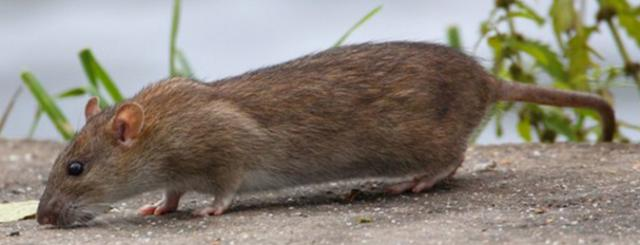rat: (26, 31, 568, 233)
